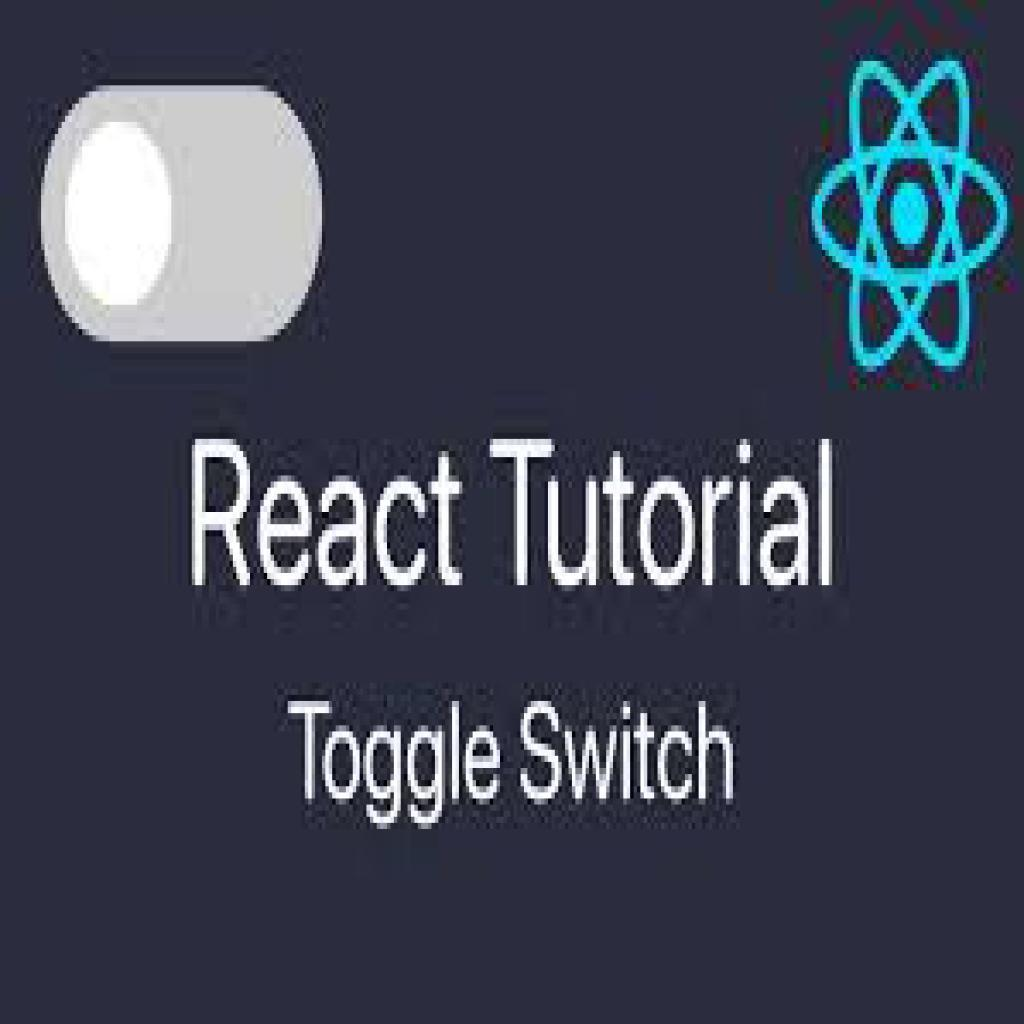label: (188, 432, 839, 595), (281, 697, 745, 836)
switch: (38, 85, 327, 345)
